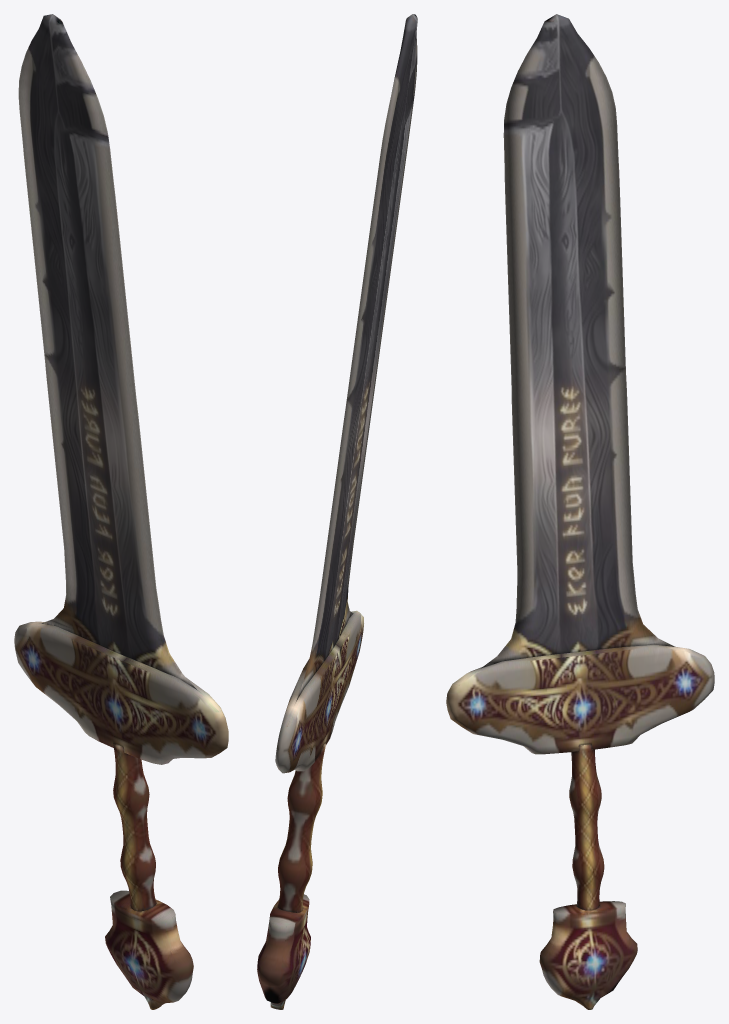
File: sword_legend.glb
3 views of the same model, side by side, from view 1: azimuth 30°, elevation 25°; view 2: azimuth 150°, elevation 25°; view 3: azimuth 270°, elevation 25° (orthographic). The views are drawn at different scales.
Visible parts, largest first — view 1: sword_legend_bar1; view 2: sword_legend_bar1; view 3: sword_legend_bar1.
Part boxes in pixels (left/top/right/bottom): sword_legend_bar1: left=14, top=14, right=228, bottom=1009; sword_legend_bar1: left=257, top=14, right=417, bottom=1009; sword_legend_bar1: left=446, top=14, right=714, bottom=1009.
Bounding box in the file's own units: 0.1418 × 0.9864 × 0.2551.
Materials: 1 (1 with a texture image).
